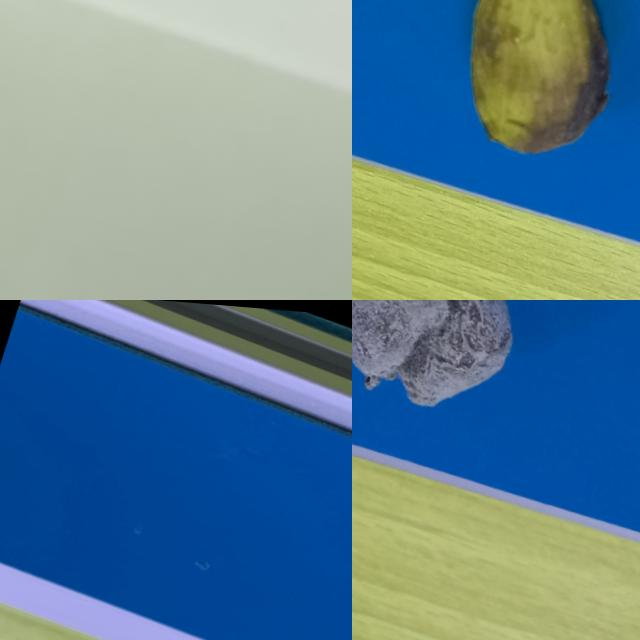Agglomerated_cocoabeans: (352, 300, 639, 477)
Fine_cocoabeans: (352, 0, 639, 240)
Flat_cocoabeans: (235, 439, 351, 639)
